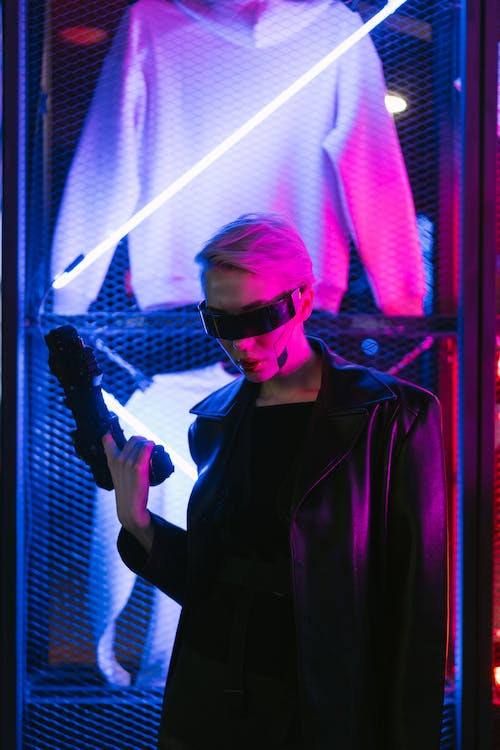gun: (41, 323, 179, 489)
